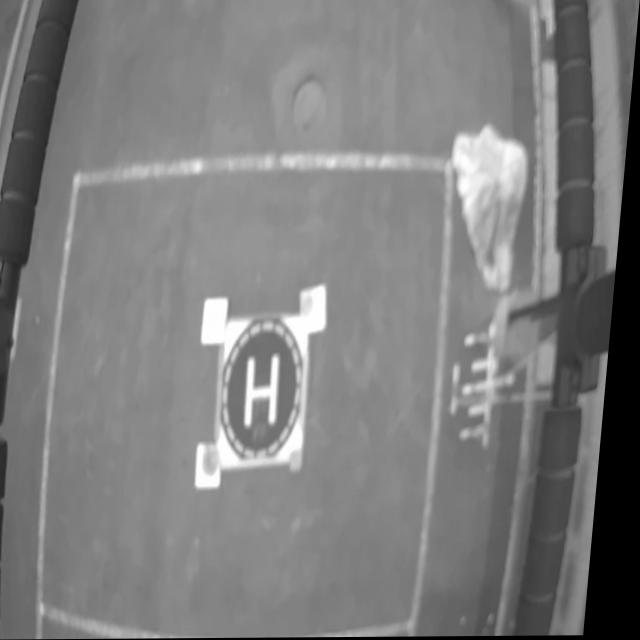Helipad: (251, 353, 288, 430)
